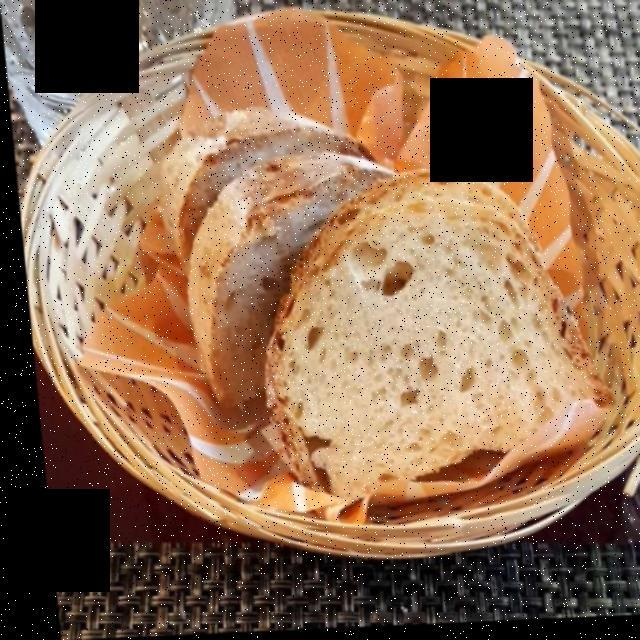bread: (160, 110, 581, 489)
